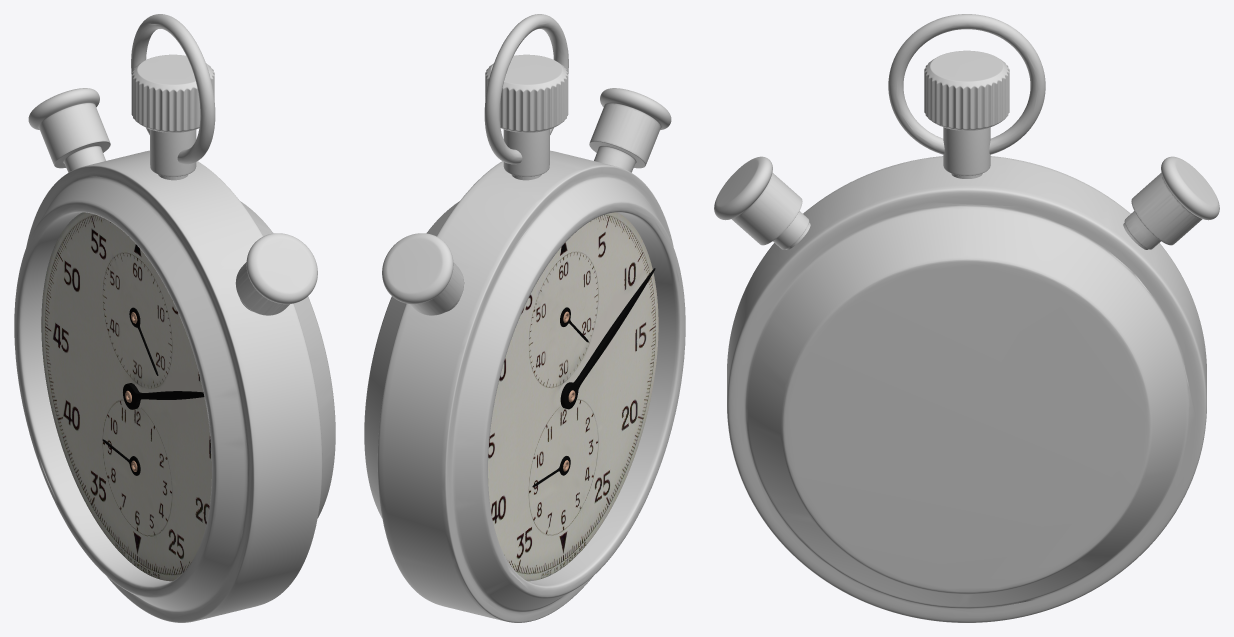
Rendered from Stopwatch.glb.
3 views of the same model, side by side, from view 1: azimuth 30°, elevation 25°; view 2: azimuth 150°, elevation 25°; view 3: azimuth 270°, elevation 25° (orthographic). The views are drawn at different scales.
Visible parts, largest first — view 1: Stopwatch.013, Stopwatch.010, Stopwatch.011, Stopwatch.014, Stopwatch.012, Stopwatch.016, Stopwatch.015, Stopwatch.009; view 2: Stopwatch.013, Stopwatch.010, Stopwatch.012, Stopwatch.014, Stopwatch.011, Stopwatch.016, Stopwatch.015, Stopwatch.009; view 3: Stopwatch.013, Stopwatch.014, Stopwatch.016, Stopwatch.011, Stopwatch.012, Stopwatch.015.
Boxes of the visible parts, x1,y1,x2,y2 form: Stopwatch.013: [14, 150, 335, 622]; Stopwatch.010: [41, 212, 211, 581]; Stopwatch.011: [235, 233, 317, 315]; Stopwatch.014: [131, 54, 214, 132]; Stopwatch.012: [28, 88, 110, 172]; Stopwatch.016: [131, 14, 215, 164]; Stopwatch.015: [150, 129, 196, 180]; Stopwatch.009: [123, 383, 204, 409]; Stopwatch.013: [364, 150, 685, 622]; Stopwatch.010: [488, 212, 658, 581]; Stopwatch.012: [382, 233, 464, 315]; Stopwatch.014: [485, 54, 568, 132]; Stopwatch.011: [589, 88, 671, 172]; Stopwatch.016: [484, 14, 568, 164]; Stopwatch.015: [503, 129, 549, 180]; Stopwatch.009: [560, 268, 655, 409]; Stopwatch.013: [727, 156, 1206, 622]; Stopwatch.014: [924, 50, 1009, 130]; Stopwatch.016: [888, 14, 1045, 154]; Stopwatch.011: [714, 156, 810, 249]; Stopwatch.012: [1123, 156, 1219, 249]; Stopwatch.015: [943, 127, 990, 178].
Size of the model in its own units: 0.7167 by 3.01 by 2.33.
4 materials, 1 textured.
